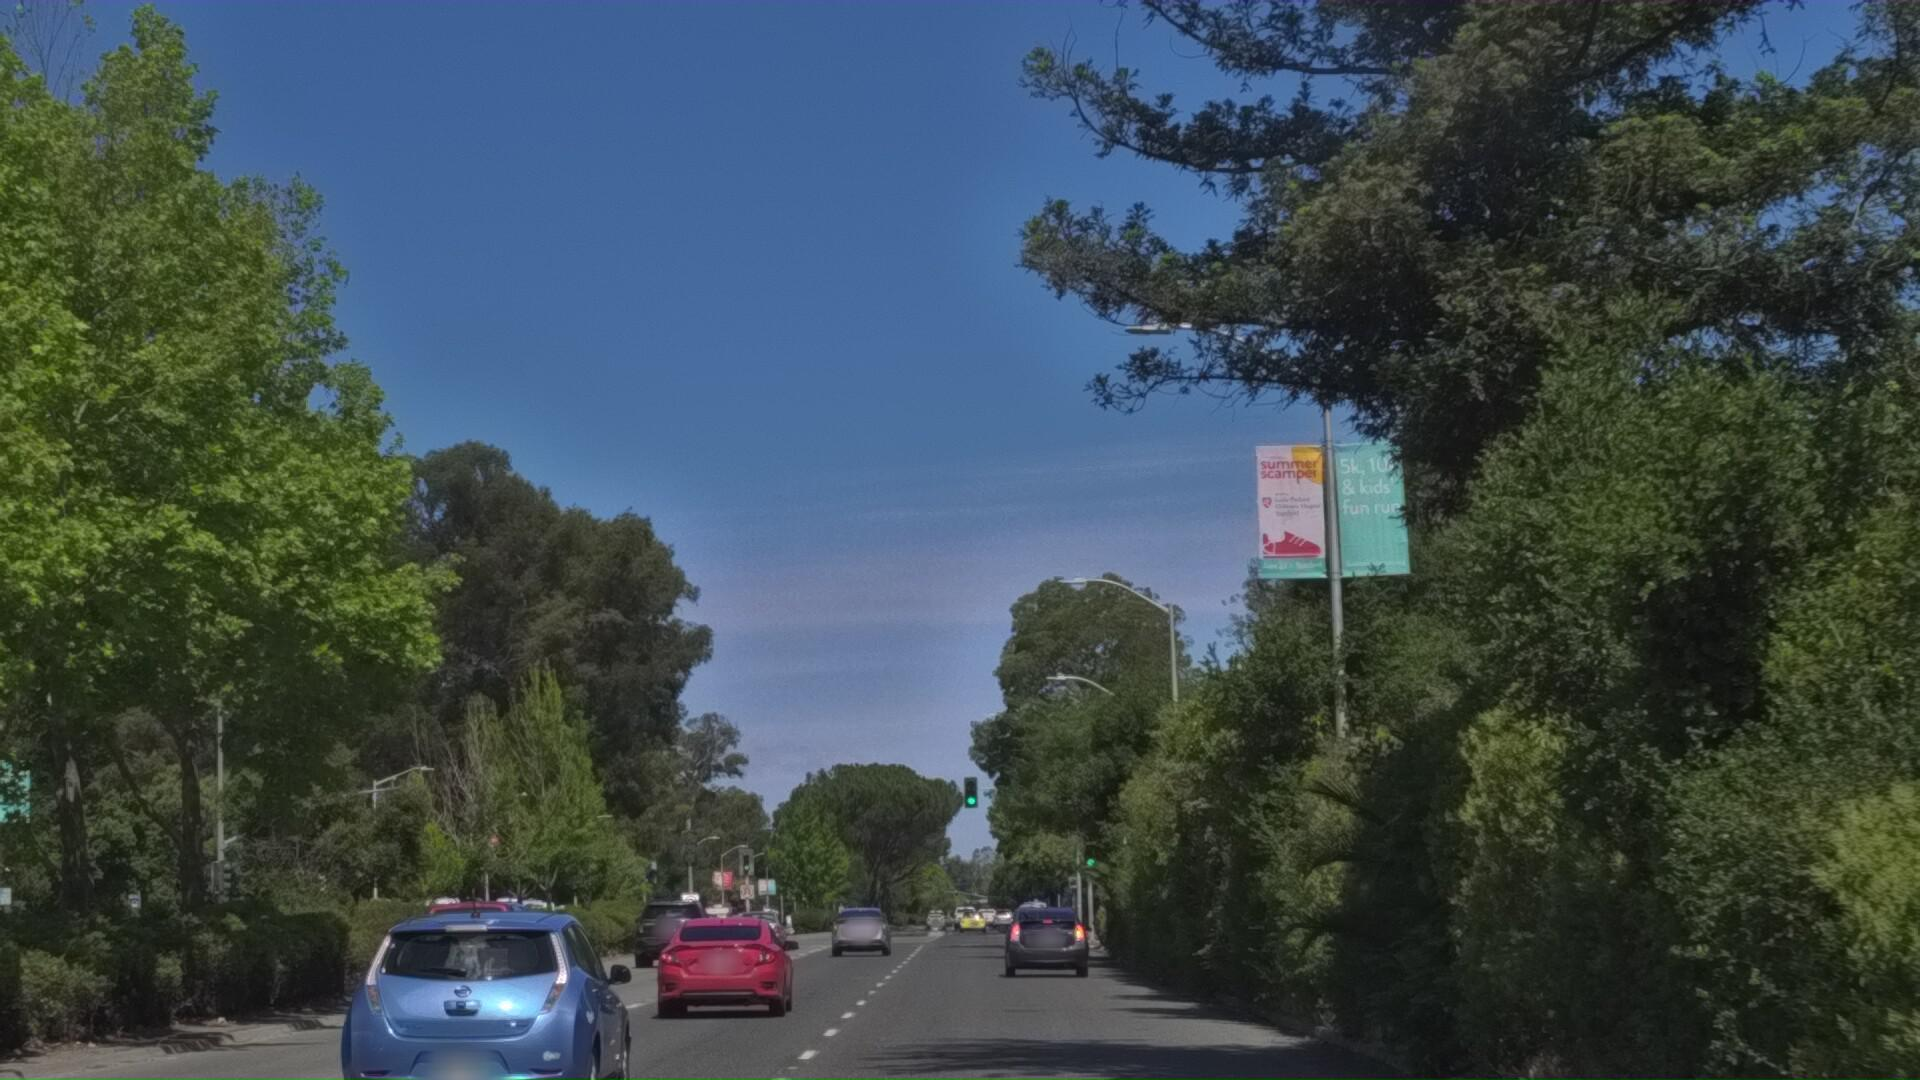car: (324, 1004, 647, 1080), (415, 992, 566, 1080), (655, 1007, 798, 1080), (990, 1002, 1095, 1080)
